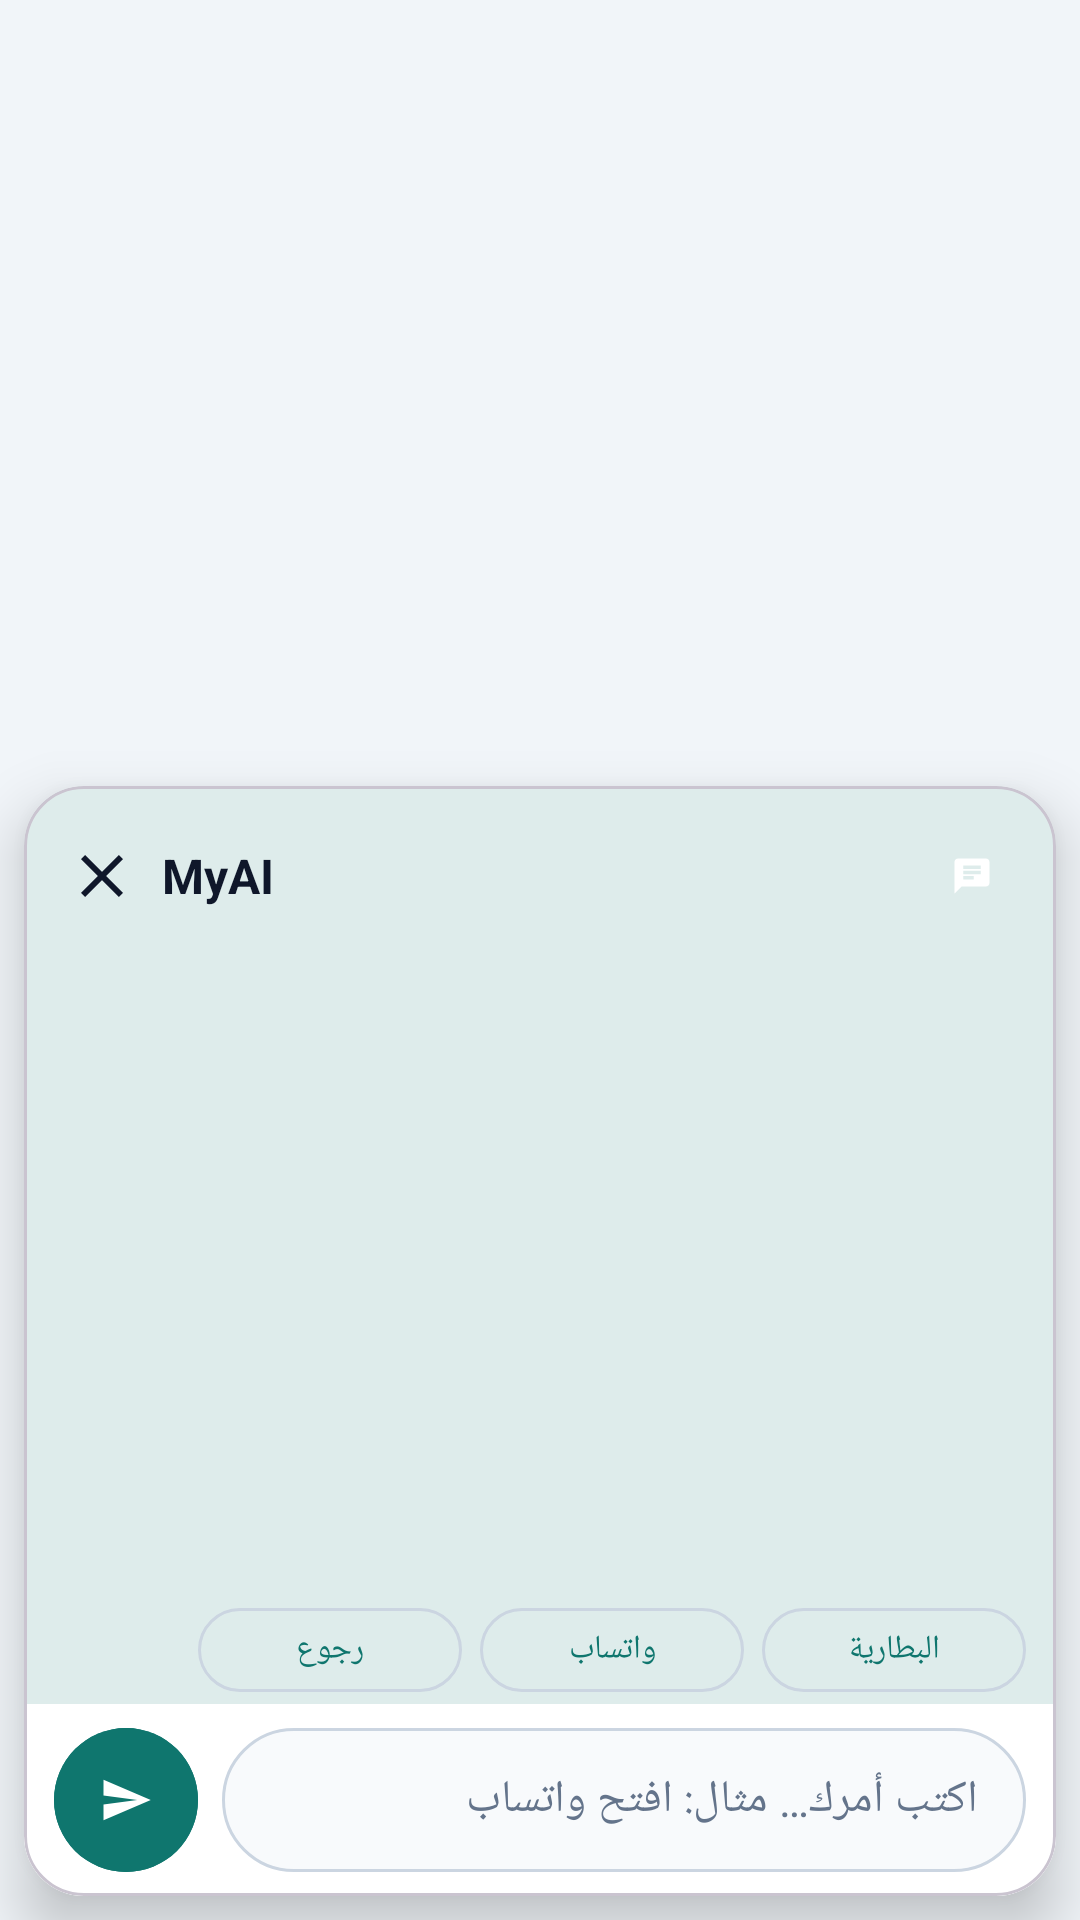

Point at icon controls on the screen. Image size 1080x1920, points as (x,y).
إرسال: (126,1800)
إغلاق المساعد العائم: (102,876)
